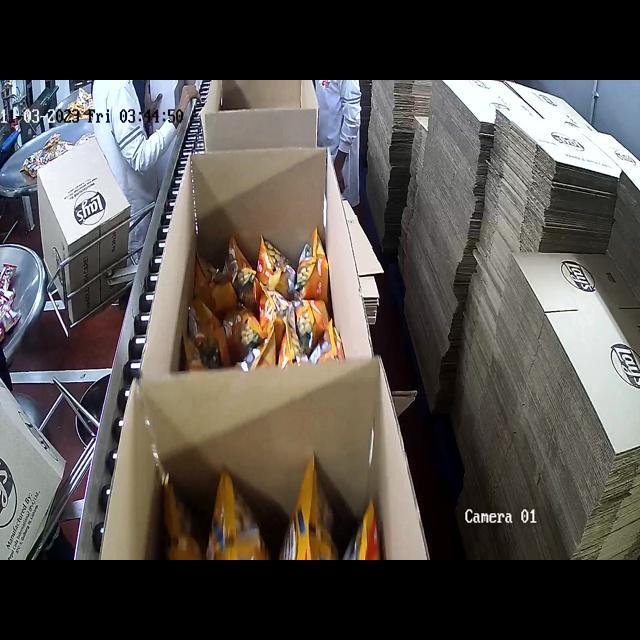cheese: (149, 464, 360, 560), (201, 232, 329, 388)
